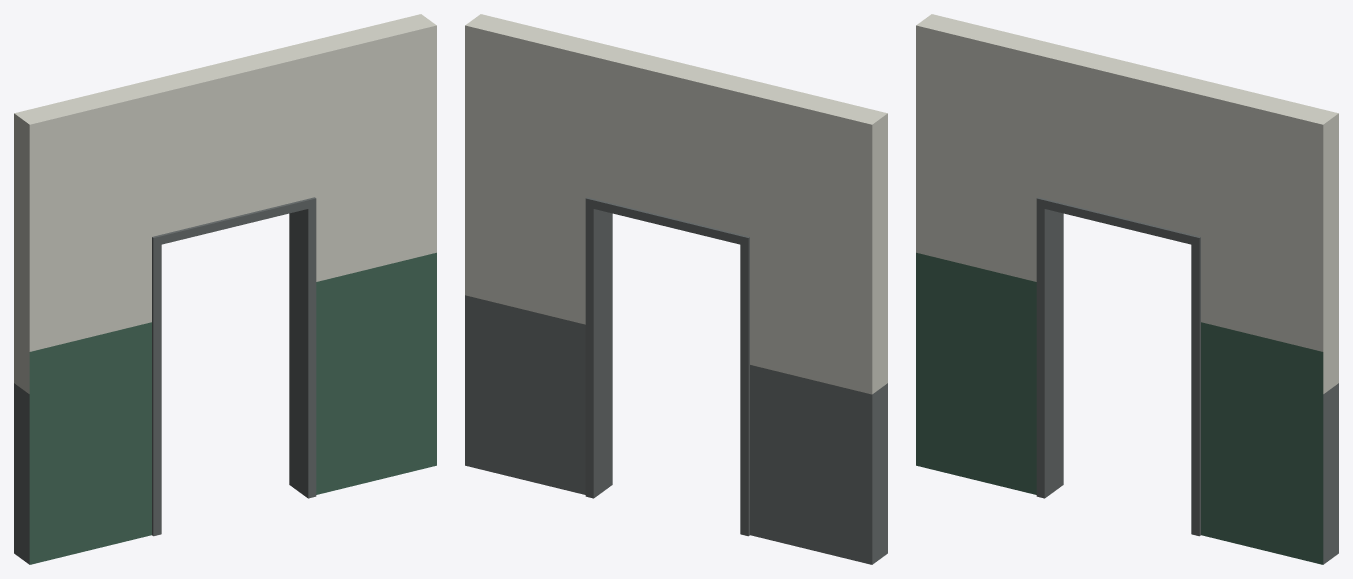
The model's file is hosp_wall_door_bsmt_paint.glb.
3 renders of one model, left to right at view 1: azimuth 30°, elevation 25°; view 2: azimuth 150°, elevation 25°; view 3: azimuth 330°, elevation 25°, orthographic.
Visible parts, largest first — view 1: hosp_wall_door_bsmt_paint-col; view 2: hosp_wall_door_bsmt_paint-col; view 3: hosp_wall_door_bsmt_paint-col.
Part boxes in pixels (x1,y1,x2,y2): hosp_wall_door_bsmt_paint-col: (14,14,436,564); hosp_wall_door_bsmt_paint-col: (465,14,887,564); hosp_wall_door_bsmt_paint-col: (916,14,1338,564).
Size of the model in its own units: 3 by 3.1 by 0.24.
